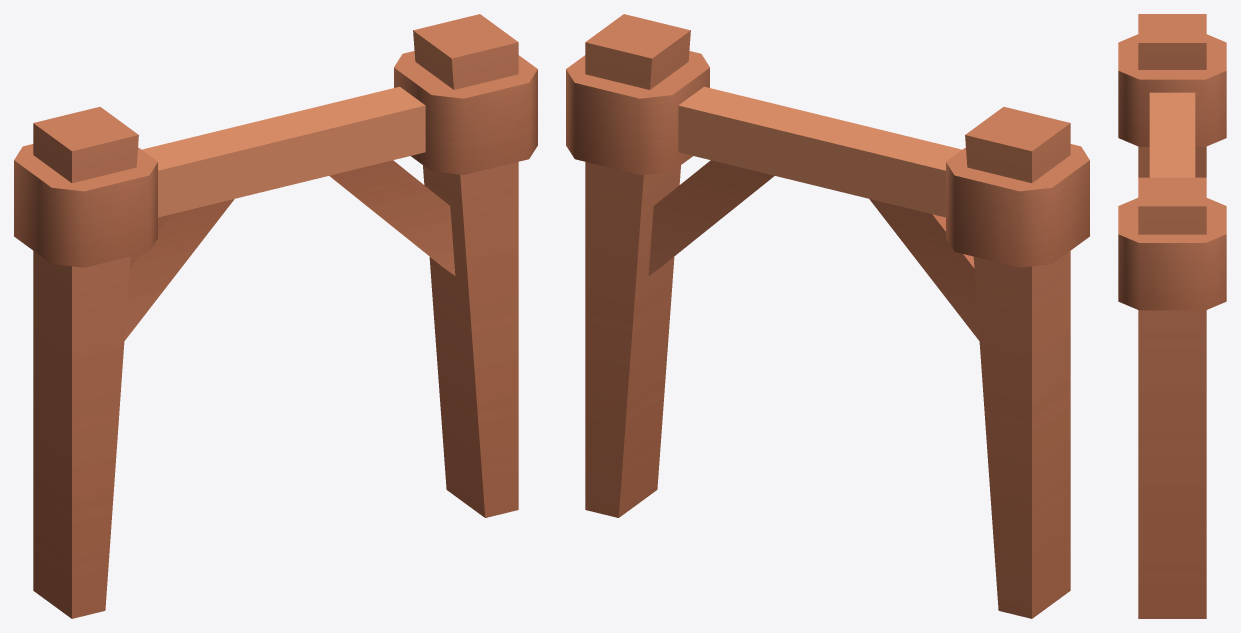
File: wood-support.fbx
3 renders of one model, left to right at view 1: azimuth 30°, elevation 25°; view 2: azimuth 150°, elevation 25°; view 3: azimuth 270°, elevation 25°, orthographic. The views are drawn at different scales.
Parts seen in each view (by area): view 1: wood-support; view 2: wood-support; view 3: wood-support.
Boxes of the visible parts, bbox=[...] form: wood-support: bbox=[14, 14, 537, 618]; wood-support: bbox=[566, 14, 1089, 618]; wood-support: bbox=[1118, 14, 1226, 618].
Bounding box in the file's own units: 109 × 100 × 23.81.
